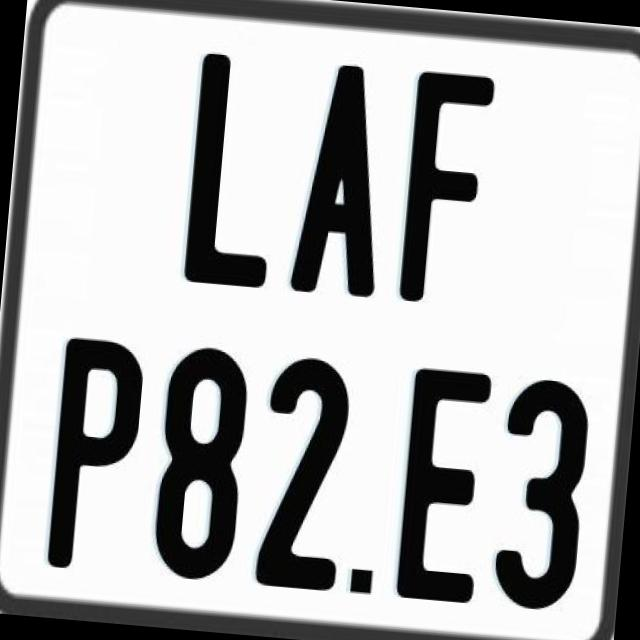2: (250, 350, 354, 594)
3: (492, 376, 592, 614)
8: (151, 341, 251, 578)
A: (288, 61, 393, 306)
E: (392, 362, 496, 608)
F: (396, 70, 494, 316)
L: (182, 53, 292, 294)
P: (43, 336, 148, 575)
